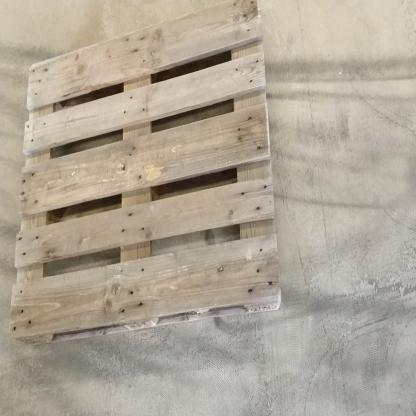BoxFace: (4, 0, 287, 354)
